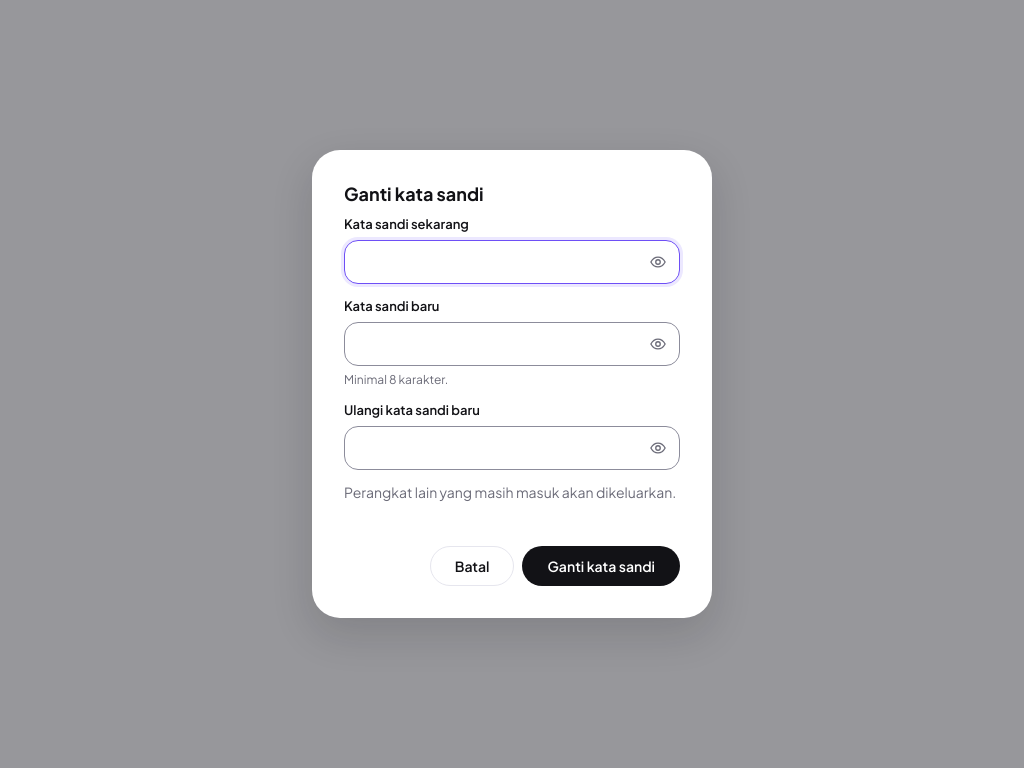
Scenario: PasswordDialog › menolak kolom kosong tanpa memanggil server
This screenshot has width=1024, height=768.
Click the button "Ganti kata sandi".
click(601, 566)  # box [522,546,680,586]
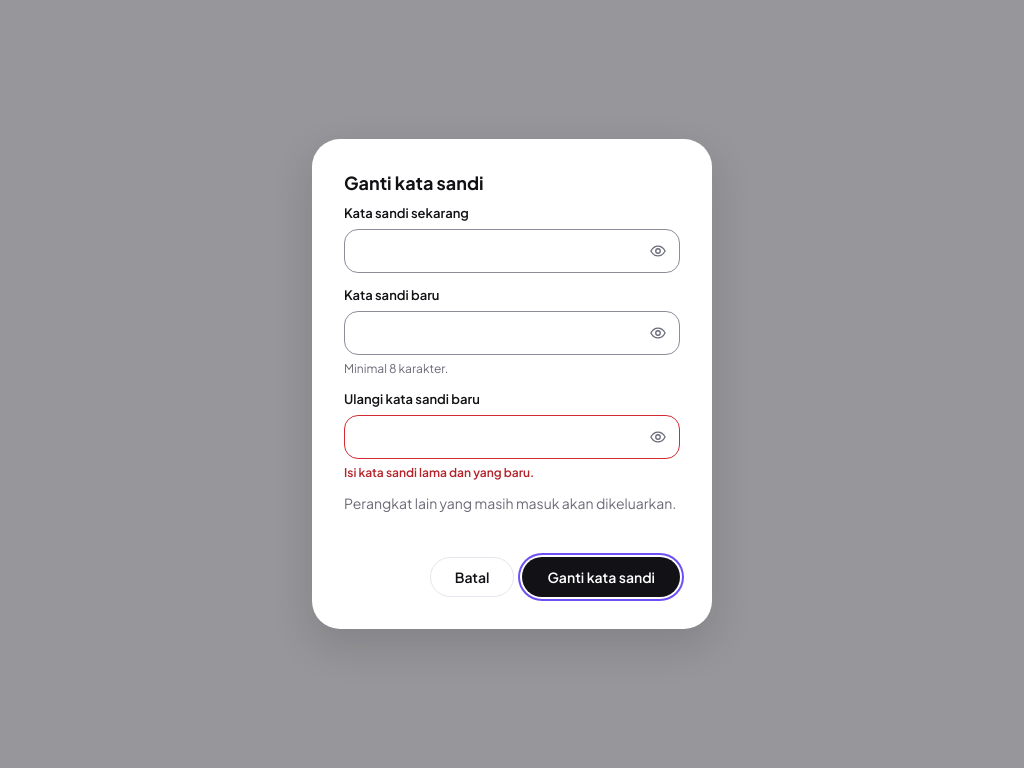
Check: the message shows "Isi kata sandi lama dan yang baru", box [344,465,534,480]
